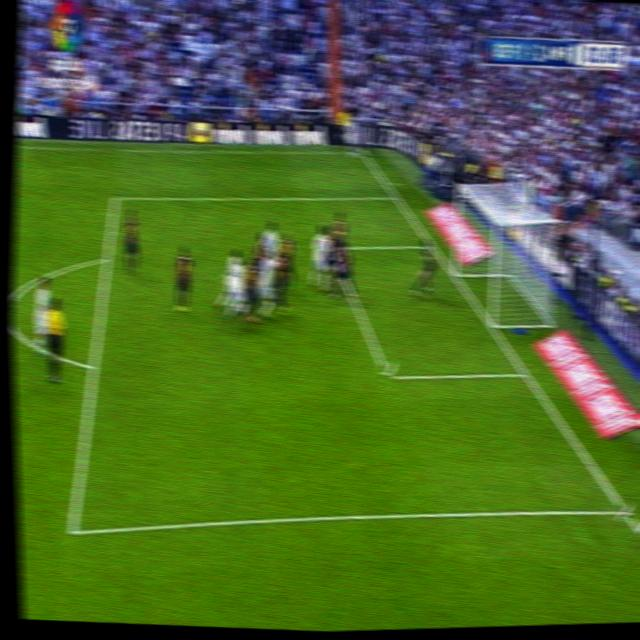bigarea_bottom_inner: (379, 360, 396, 389)
bigarea_top_outter: (389, 189, 401, 202)
bottom_arc_area_intersection: (616, 496, 633, 524)
corner: (357, 147, 367, 157)
smallarea_bottom_outter: (517, 361, 532, 384)
